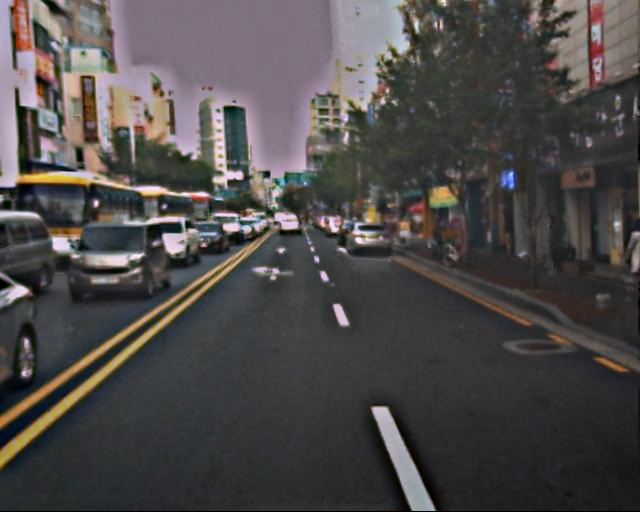person: (544, 209, 575, 279), (616, 218, 640, 302), (499, 206, 520, 262)
